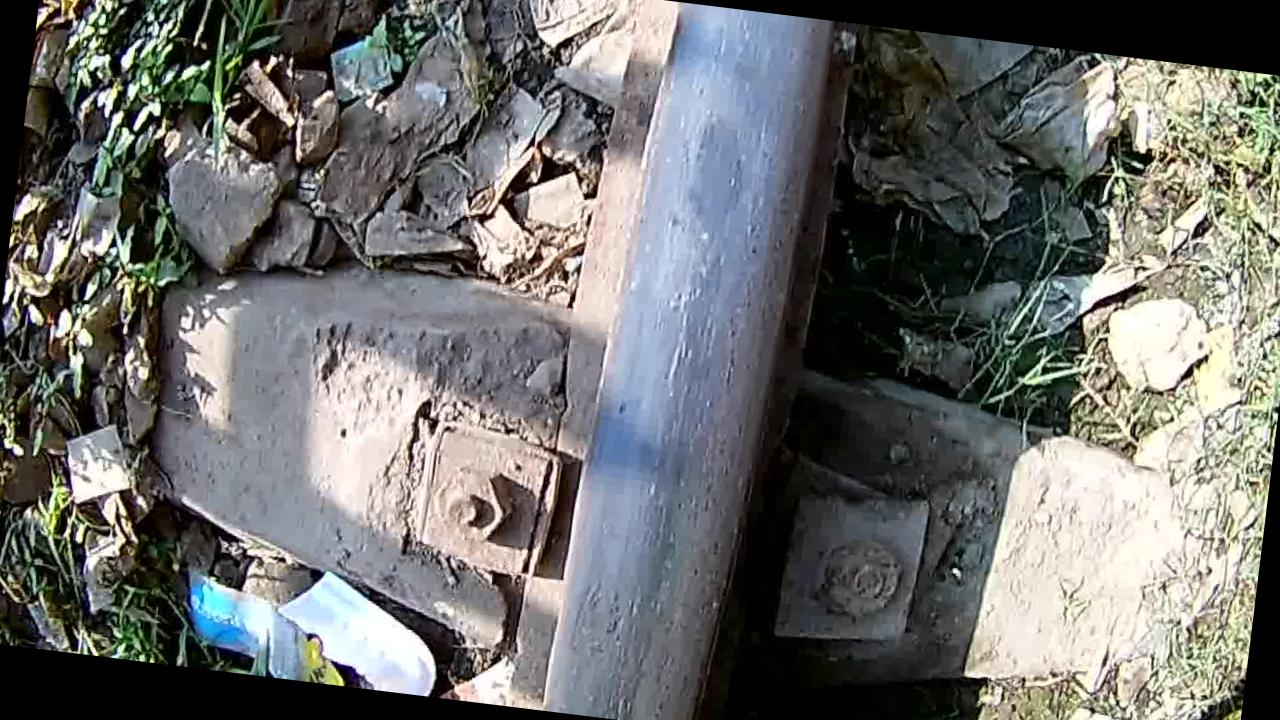bolt_missing: (626, 55, 824, 344)
